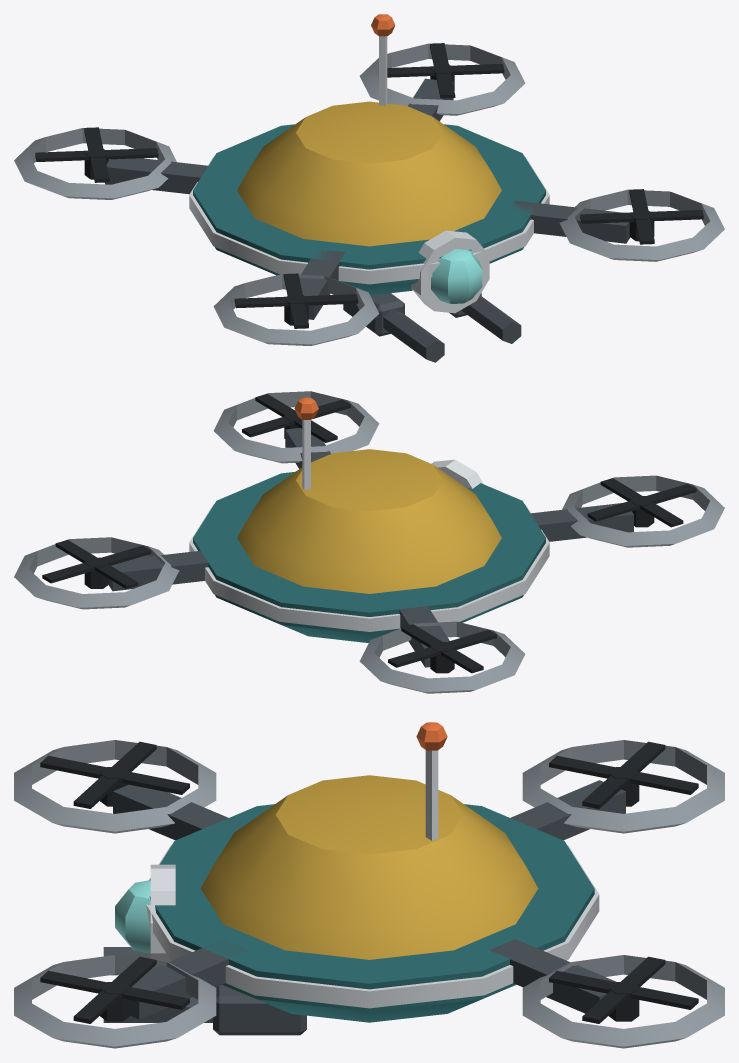
File: Prop_CombatDrone.fbx
3 renders of one model, top to bottom at view 1: azimuth 30°, elevation 25°; view 2: azimuth 150°, elevation 25°; view 3: azimuth 270°, elevation 25°, orthographic. The views are drawn at different scales.
Parts seen in each view (by area): view 1: Drone, Eye; view 2: Drone; view 3: Drone, Eye.
Boxes of the visible parts, left/top/right/bottom form: Drone: left=14, top=14, right=724, bottom=362; Eye: left=431, top=249, right=482, bottom=303; Drone: left=14, top=391, right=724, bottom=693; Drone: left=14, top=722, right=724, bottom=1048; Eye: left=115, top=880, right=150, bottom=953.
Size of the model in its own units: 2.31 by 1.08 by 2.27.
